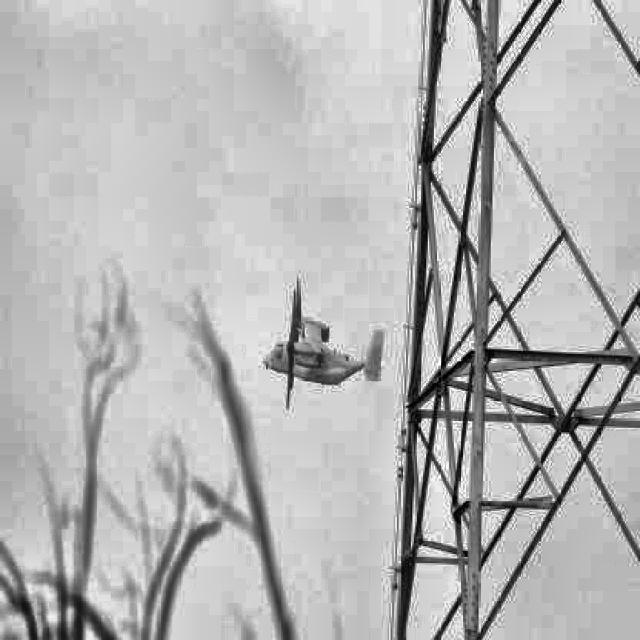V22: (263, 275, 385, 411)
